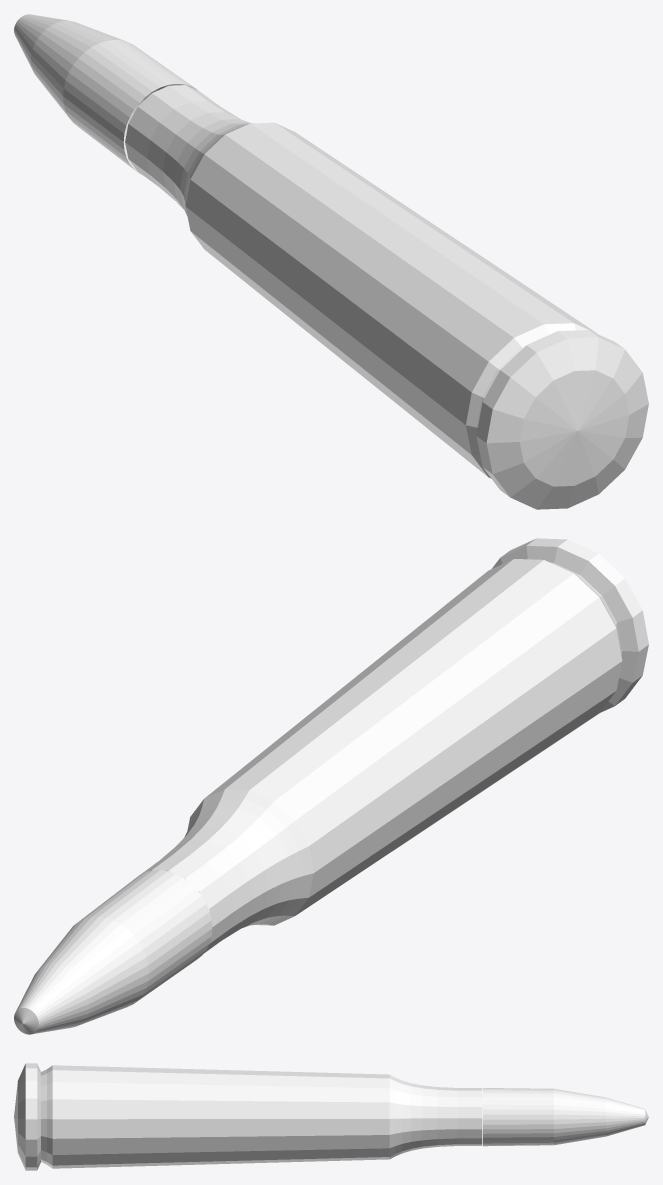
The model's file is Bullet.FBX.
The picture shows the model from 3 angles, top to bottom: view 1: azimuth 30°, elevation 25°; view 2: azimuth 150°, elevation 25°; view 3: azimuth 270°, elevation 25°; orthographic projection. The views are drawn at different scales.
Parts seen in each view (by area): view 1: Line001; view 2: Line001; view 3: Line001.
Boxes of the visible parts, x1,y1,x2,y2 form: Line001: (14,14,648,509); Line001: (14,538,648,1034); Line001: (14,1063,648,1170).
Bounding box in the file's own units: 5.98 × 5.98 × 35.38.
